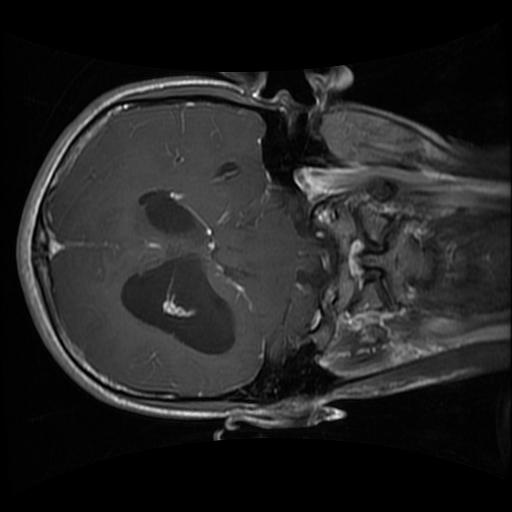glioma: (116, 187, 243, 357)
